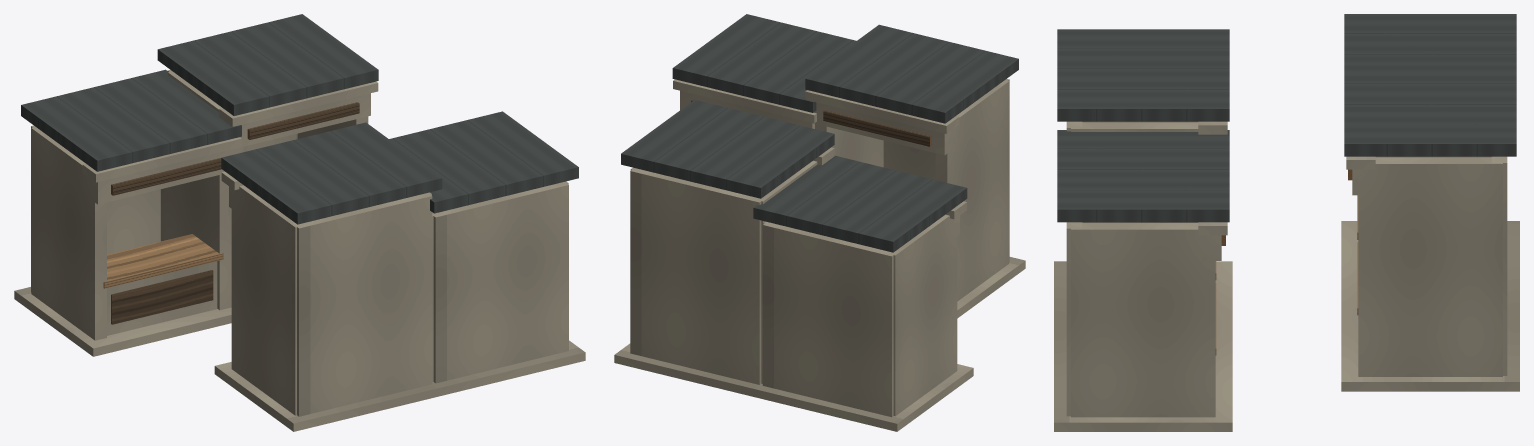
File: yola.glb
3 views of the same model, side by side, from view 1: azimuth 30°, elevation 25°; view 2: azimuth 150°, elevation 25°; view 3: azimuth 270°, elevation 25° (orthographic). The views are drawn at different scales.
Visible parts, largest first — view 1: yola; view 2: yola; view 3: yola.
Boxes of the visible parts, <box> form: yola: <box>14,14,585,431</box>; yola: <box>614,14,1025,431</box>; yola: <box>1054,14,1519,431</box>.
Size of the model in its own units: 4.07 by 2.3 by 3.97.
Materials: 1 (1 with a texture image).
